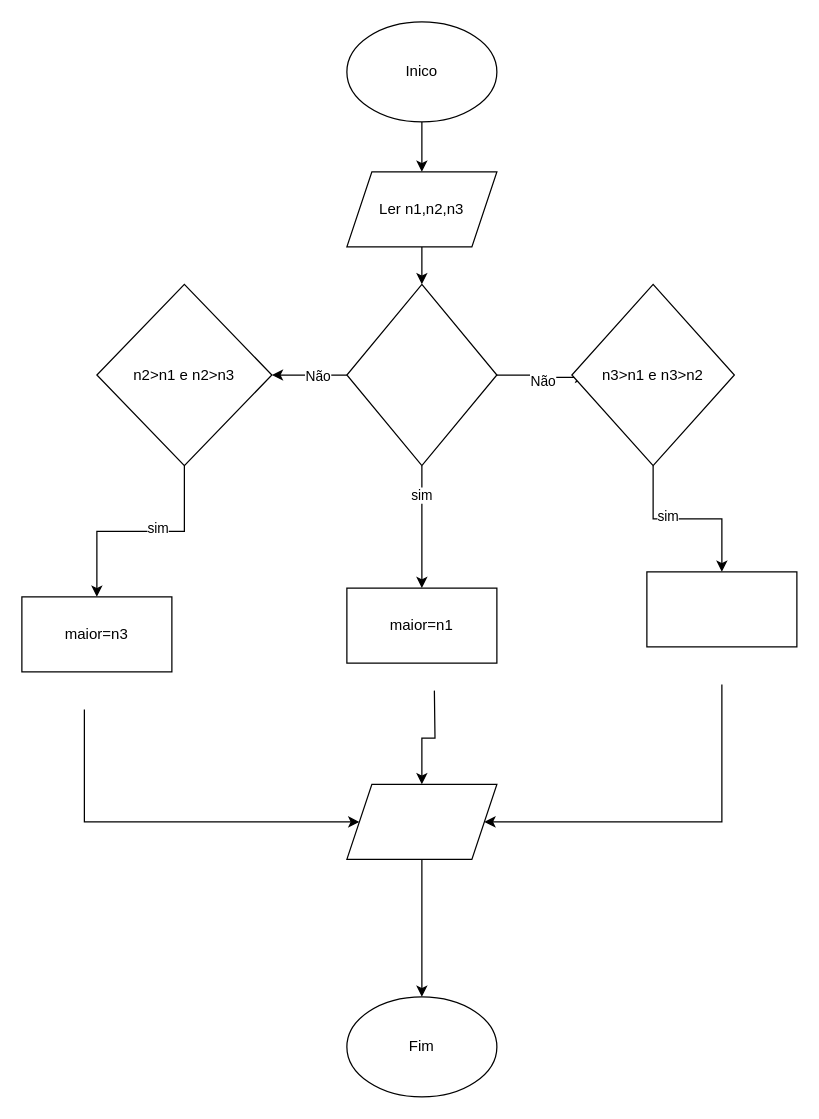
This 819x1119 diagram has some shape labels left out. The shapes that lost their labels are listed below. From the top down, each one's centre as x and y in pixels, then its label:
point (421, 374): n1>n2 e n1>n3
point (721, 609): maior=n2
point (421, 821): Imprima o n maior
